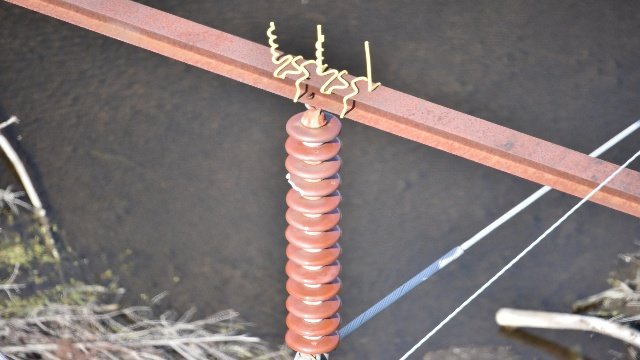broken_local: (282, 171, 307, 199)
insulator_unspecified: (282, 111, 344, 353)
